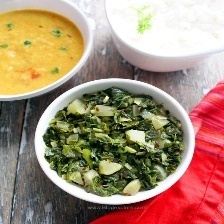sabzi: (41, 88, 186, 198)
